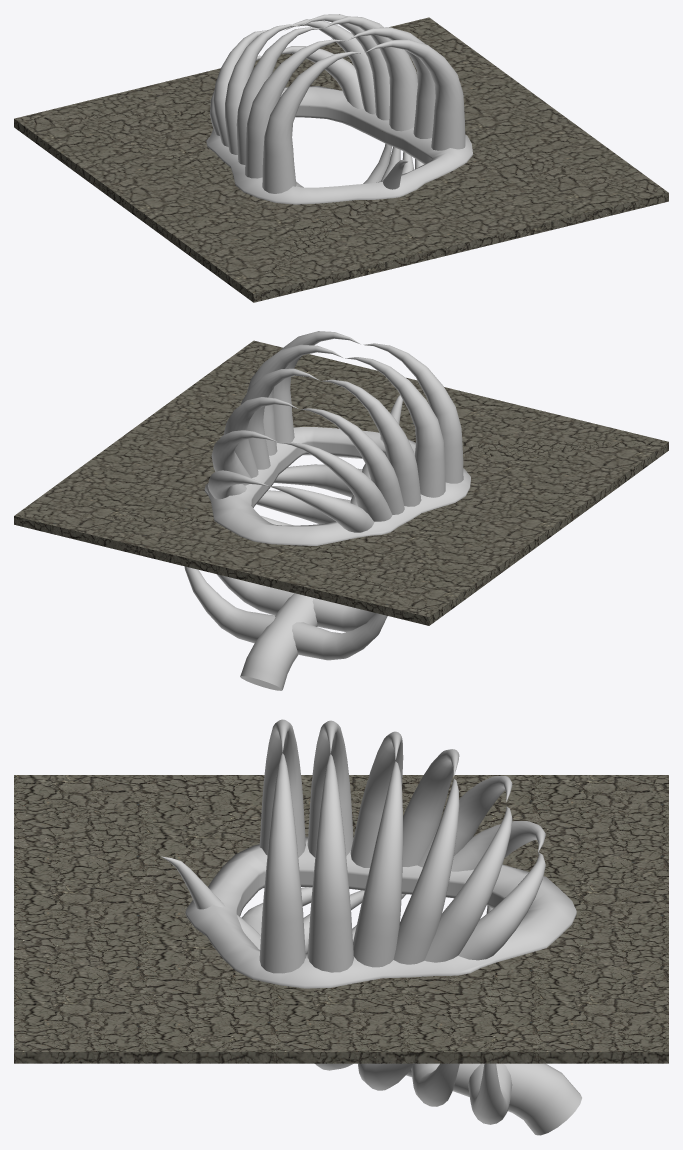
Rendered from hell_stairs.fbx.
The picture shows the model from 3 angles, top to bottom: view 1: azimuth 30°, elevation 25°; view 2: azimuth 150°, elevation 25°; view 3: azimuth 270°, elevation 25°; orthographic projection. The views are drawn at different scales.
Visible parts, largest first — view 1: floor, hell_top, Fang_01, Fang_12, Fang_02, Fang_10, Fang_03, Fang_11, Fang_04, Fang_08, Fang_09, Fang_05 (+2 smaller); view 2: floor, hell_top, stem, Fang_02, Fang_01, Fang_03, Fb_01, Fb_07, Fang_04, Fang_05, Fang_12, Fang_06 (+9 smaller); view 3: floor, hell_top, Fang_12, Fang_11, Fang_10, stem, Fang_09, Fang_08, Fang_04, Fang_07, Fang_03, Fang_01 (+6 smaller).
Boxes of the visible parts, bbox=[...] form: floor: bbox=[14, 17, 668, 302]; hell_top: bbox=[206, 86, 472, 204]; Fang_01: bbox=[262, 51, 362, 193]; Fang_12: bbox=[365, 39, 465, 150]; Fang_02: bbox=[245, 39, 344, 178]; Fang_10: bbox=[323, 16, 417, 131]; Fang_03: bbox=[236, 27, 321, 164]; Fang_11: bbox=[347, 27, 435, 138]; Fang_04: bbox=[225, 24, 299, 154]; Fang_08: bbox=[285, 19, 375, 114]; Fang_09: bbox=[302, 14, 389, 120]; Fang_05: bbox=[213, 30, 267, 146]; floor: bbox=[14, 340, 668, 625]; hell_top: bbox=[204, 427, 470, 545]; stem: bbox=[240, 395, 402, 690]; Fang_02: bbox=[345, 357, 445, 497]; Fang_01: bbox=[363, 343, 463, 483]; Fang_03: bbox=[321, 379, 421, 506]; Fb_01: bbox=[292, 613, 387, 660]; Fb_07: bbox=[184, 566, 275, 643]; Fang_04: bbox=[301, 408, 404, 514]; Fang_05: bbox=[283, 442, 392, 521]; Fang_12: bbox=[273, 331, 360, 443]; Fang_06: bbox=[268, 486, 374, 532]; floor: bbox=[14, 775, 668, 1063]; hell_top: bbox=[185, 836, 576, 988]; Fang_12: bbox=[259, 753, 305, 973]; Fang_11: bbox=[307, 754, 353, 972]; Fang_10: bbox=[353, 761, 403, 967]; stem: bbox=[161, 856, 581, 1135]; Fang_09: bbox=[393, 778, 459, 964]; Fang_08: bbox=[424, 806, 512, 962]; Fang_04: bbox=[402, 749, 459, 866]; Fang_07: bbox=[458, 852, 545, 960]; Fang_03: bbox=[350, 731, 403, 867]; Fang_01: bbox=[259, 719, 305, 857].
Bounding box in the file's own units: 10 × 10 × 6.51.
